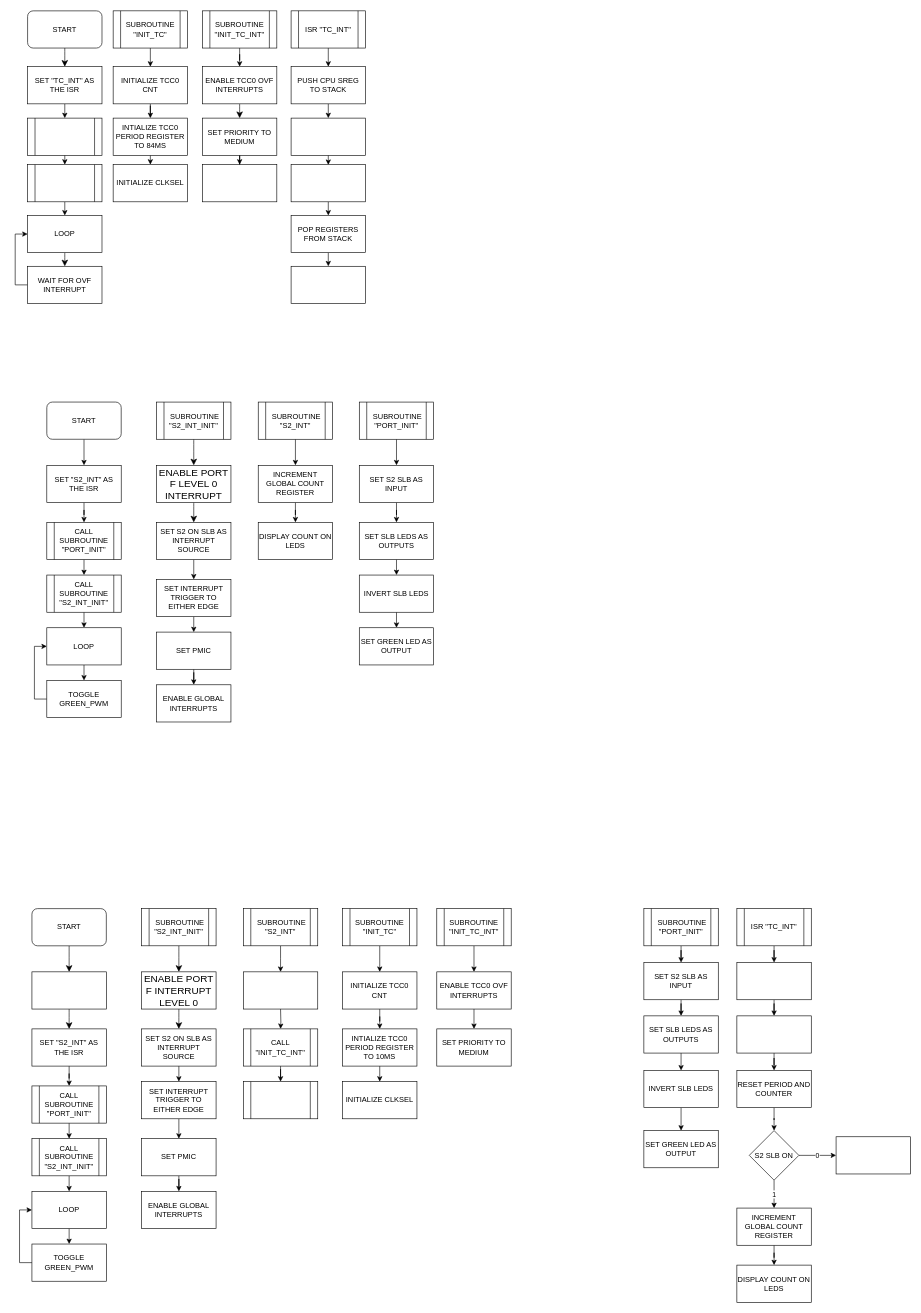
The diagram is 921 pixels wide and 1313 high, and some of its shapes have lost their labels. The box of each missing label's shape, as (x1, y1, x2, y2) in pixels:
CALL "INIT_TC": (243, 1081, 318, 1119)
CALL SUBROUTINE "INIT_TC": (27, 164, 102, 202)
CALL SUBROUTINE "INIT_TC_INT": (27, 117, 102, 155)
DISABLE IO INTERRUPT: (243, 971, 318, 1009)
DISABLE TC: (736, 962, 811, 1000)
DISABLE TC INTERRUPT: (736, 1015, 811, 1053)
ENABLE IO INTERRUPT: (835, 1136, 910, 1174)
POP SREG FROM STACK: (290, 266, 365, 303)
PUSH REGISTERS TO STACK: (290, 117, 365, 155)
SET "TC_INT" AS OVF ISR: (31, 971, 106, 1009)
TOGGLE PORTC OUTPUT: (290, 164, 365, 202)
TURN ON GLOBAL INTERRUPTS: (202, 164, 277, 202)
